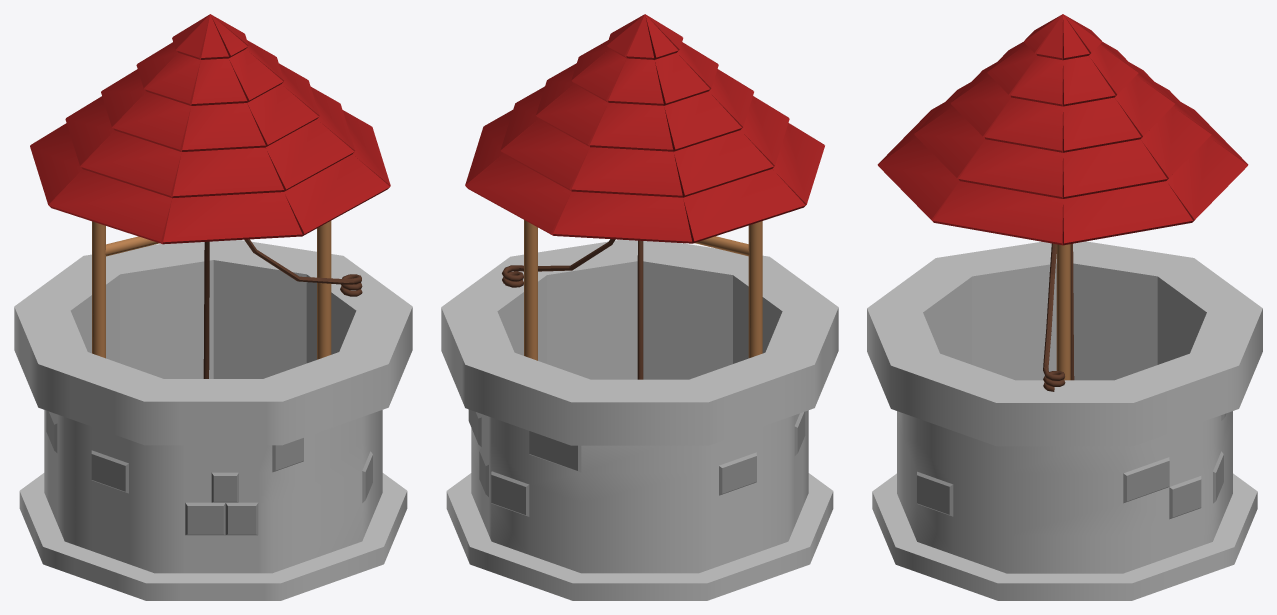
File: water_well.glb
3 renders of one model, left to right at view 1: azimuth 30°, elevation 25°; view 2: azimuth 150°, elevation 25°; view 3: azimuth 270°, elevation 25°, orthographic.
Visible parts, largest first — view 1: pozo, Cone001, Cylinder009, Spring002, Cylinder010, Cylinder011; view 2: pozo, Cone001, Cylinder010, Cylinder009, Spring002, Cylinder011; view 3: pozo, Cone001, Cylinder009, Spring002.
Part boxes in pixels (<box>): pozo: <box>14,240,412,600</box>; Cone001: <box>30,14,390,244</box>; Cylinder009: <box>317,221,331,359</box>; Spring002: <box>203,239,362,378</box>; Cylinder010: <box>92,221,105,358</box>; Cylinder011: <box>105,236,159,256</box>; pozo: <box>441,239,838,600</box>; Cone001: <box>465,14,824,243</box>; Cylinder010: <box>748,221,762,358</box>; Cylinder009: <box>524,220,537,360</box>; Spring002: <box>502,239,643,379</box>; Cylinder011: <box>694,236,749,256</box>; pozo: <box>867,241,1262,600</box>; Cone001: <box>877,14,1248,245</box>; Cylinder009: <box>1056,244,1070,380</box>; Spring002: <box>1043,243,1074,391</box>.
Bounding box in the file's own units: 82.87 × 119 × 84.15.
